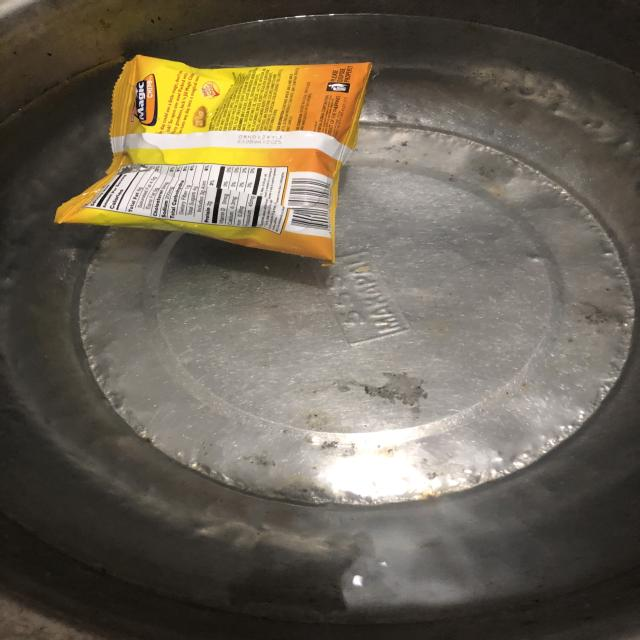Plastic Wrapper: (55, 46, 368, 266)
